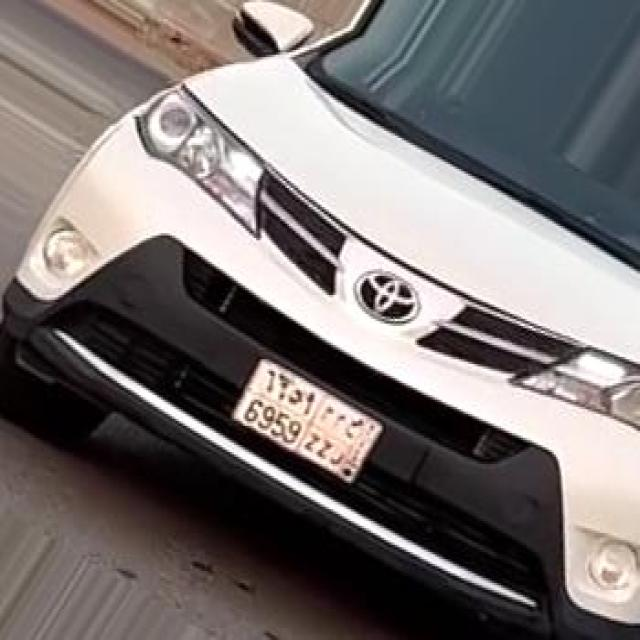Car-plate: (220, 326, 406, 505)
